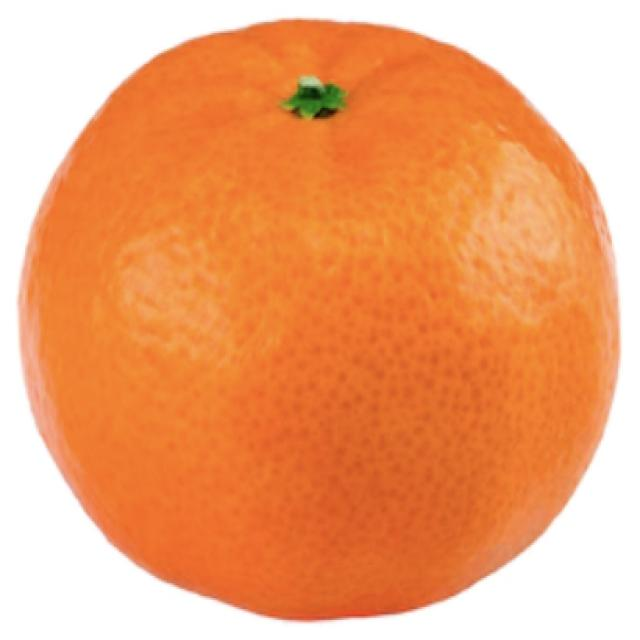orange: (14, 14, 629, 640)
